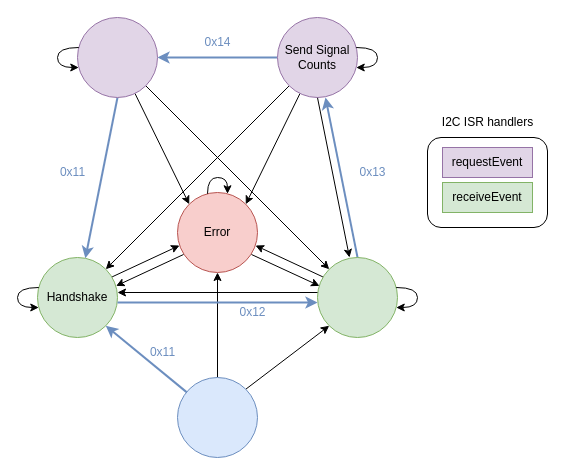
The diagram is 565 pixels wide and 475 high, and some of its shapes have lost their labels. Here are the shapes that lost their labels. From the top down, the box of each, then its label:
(76, 16, 158, 98): Send Signal Data
(316, 256, 398, 338): Scan Request
(176, 376, 258, 458): Start
